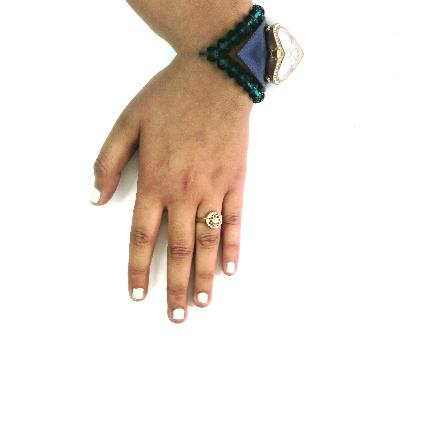Nail: (89, 187, 100, 203), (132, 288, 144, 300), (173, 309, 184, 320), (197, 293, 208, 303), (226, 262, 235, 274)
